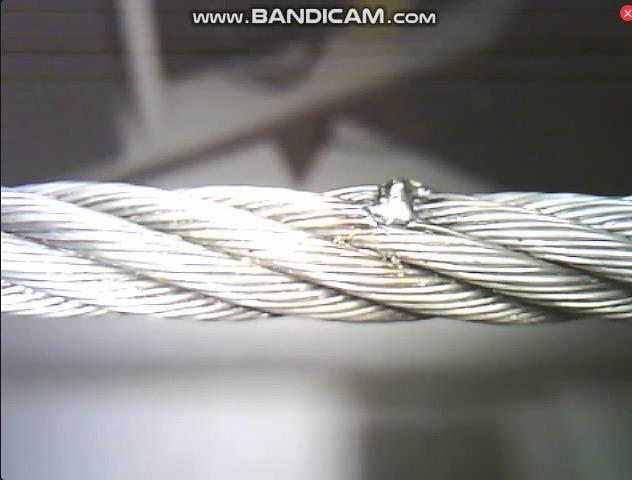thunderbolt: (345, 166, 447, 235)
